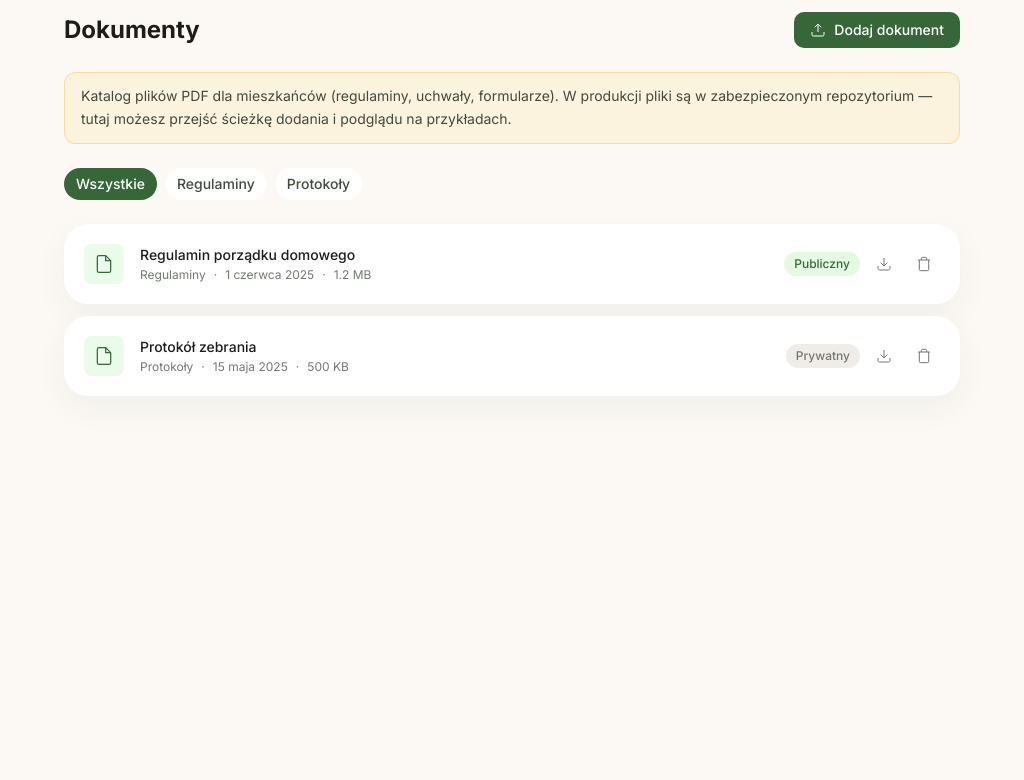
Scenario: AdminDocumentsPage › waliduje brak pliku przy próbie uploadu
The image size is (1024, 780).
Expected: the heading "Regulamin porządku domowego" is shown, [140,244,371,264]
Click the button "Dodaj dokument" at (877, 30), box [794,12,960,48]
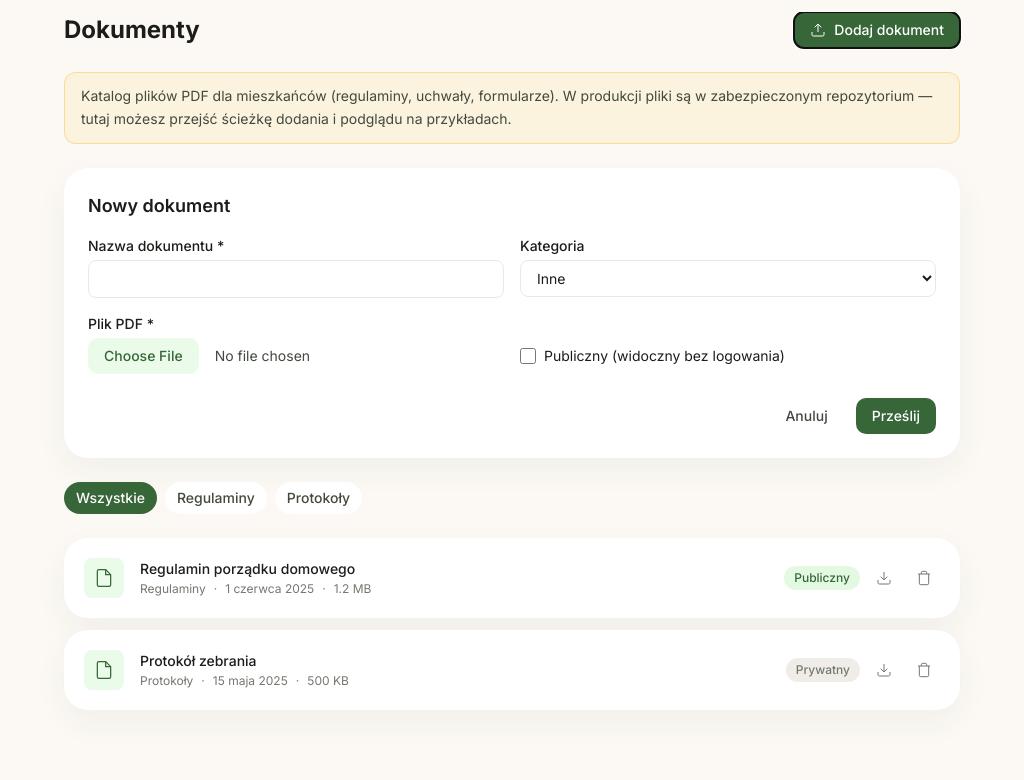
Click the button "Prześlij" at (896, 416), box [856,398,936,434]
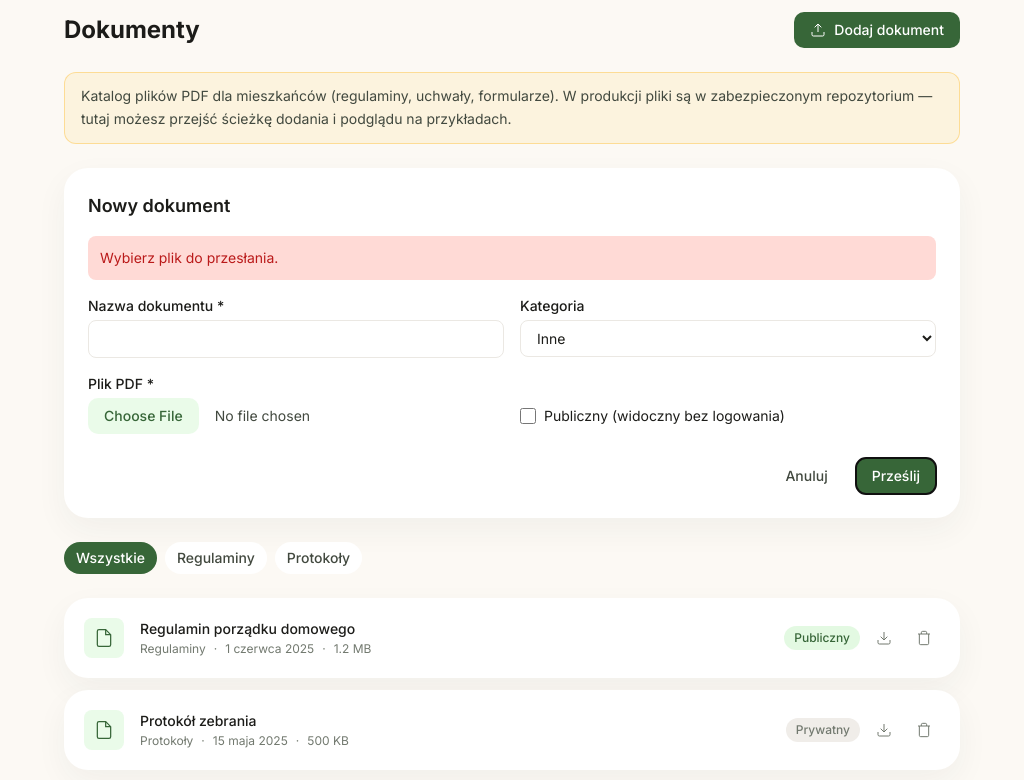
Now the text "Wybierz plik do przesłania." is shown, box [88,236,936,280]
